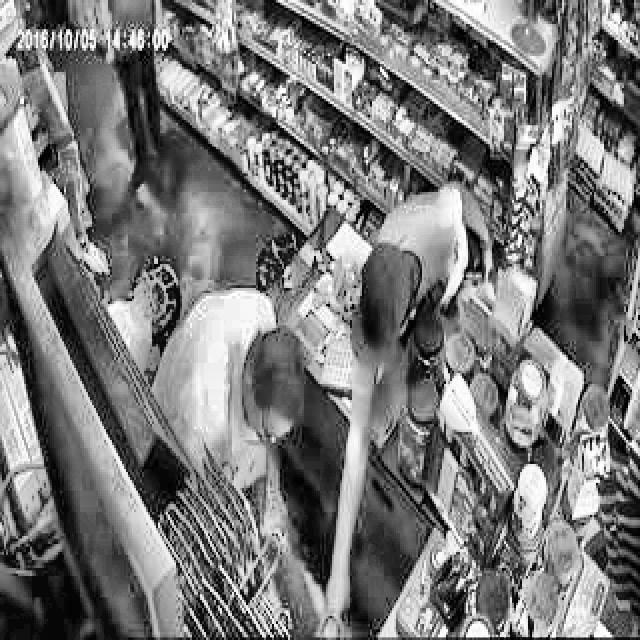robbery: (318, 183, 496, 630)
